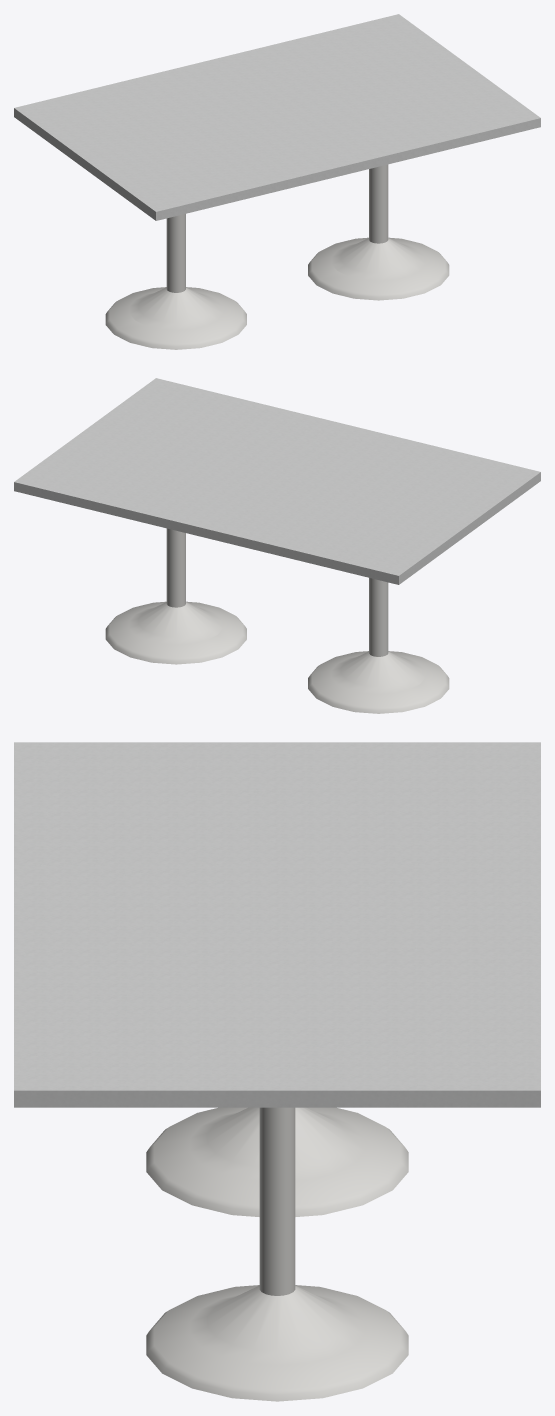
File: Table02.FBX
3 views of the same model, one above another, from view 1: azimuth 30°, elevation 25°; view 2: azimuth 150°, elevation 25°; view 3: azimuth 270°, elevation 25° (orthographic). The views are drawn at different scales.
Visible parts, largest first — view 1: Table01_2; view 2: Table01_2; view 3: Table01_2.
Boxes of the visible parts, x1,y1,x2,y2 form: Table01_2: [14, 14, 540, 349]; Table01_2: [14, 378, 540, 713]; Table01_2: [14, 742, 540, 1401].
Bounding box in the file's own units: 177 × 80 × 113.
